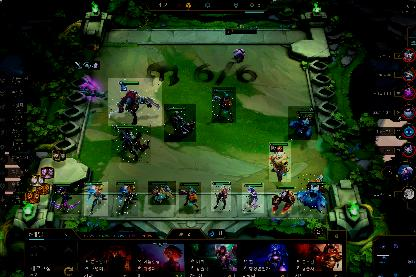1_diana: (211, 181, 231, 211)
1_leesin: (84, 182, 108, 216), (116, 180, 138, 216)
1_nunu: (298, 174, 328, 214), (288, 106, 318, 140)
1_olaf: (270, 186, 296, 214)
1_seraphine: (148, 181, 176, 205)
1_varus: (52, 182, 82, 214), (242, 183, 264, 213)
1_volibear: (269, 142, 291, 182)
1_zeri: (179, 182, 201, 214)
2_rakan: (164, 104, 196, 142)
2_rengar: (108, 78, 162, 126)
2_sylas: (111, 123, 151, 163)
2_zeri: (212, 87, 236, 123)
